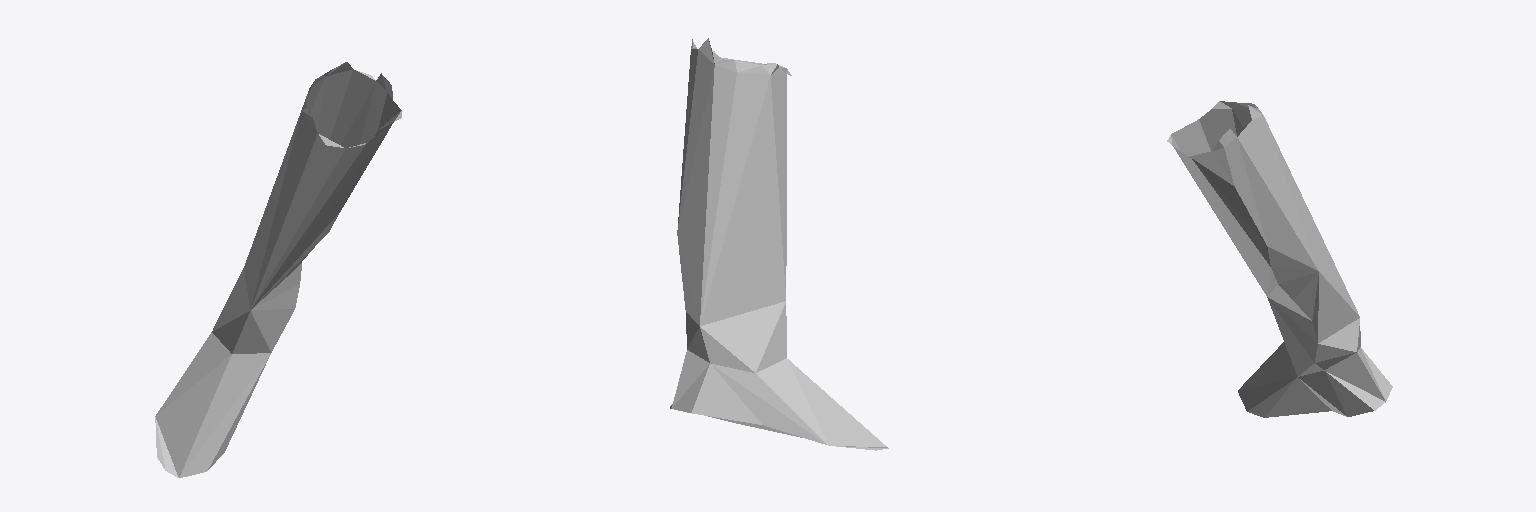
File: pierna2.obj
3 views of the same model, side by side, from view 1: azimuth 30°, elevation 25°; view 2: azimuth 150°, elevation 25°; view 3: azimuth 270°, elevation 25° (orthographic).
Visible parts, largest first — view 1: pierna2:Humano_01Business_01_30K_001; view 2: pierna2:Humano_01Business_01_30K_001; view 3: pierna2:Humano_01Business_01_30K_001.
Part boxes in pixels (x1,y1,x2,y2): pierna2:Humano_01Business_01_30K_001: (155, 62, 401, 477); pierna2:Humano_01Business_01_30K_001: (670, 38, 888, 450); pierna2:Humano_01Business_01_30K_001: (1167, 101, 1392, 417).
Size of the model in its own units: 0.1651 by 0.2805 by 0.153.